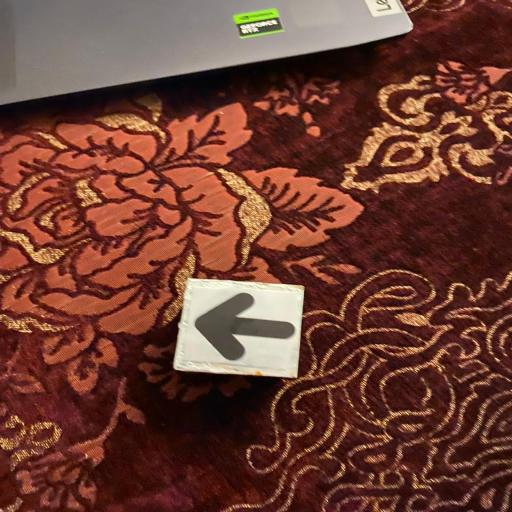Back: (169, 275, 309, 377)
